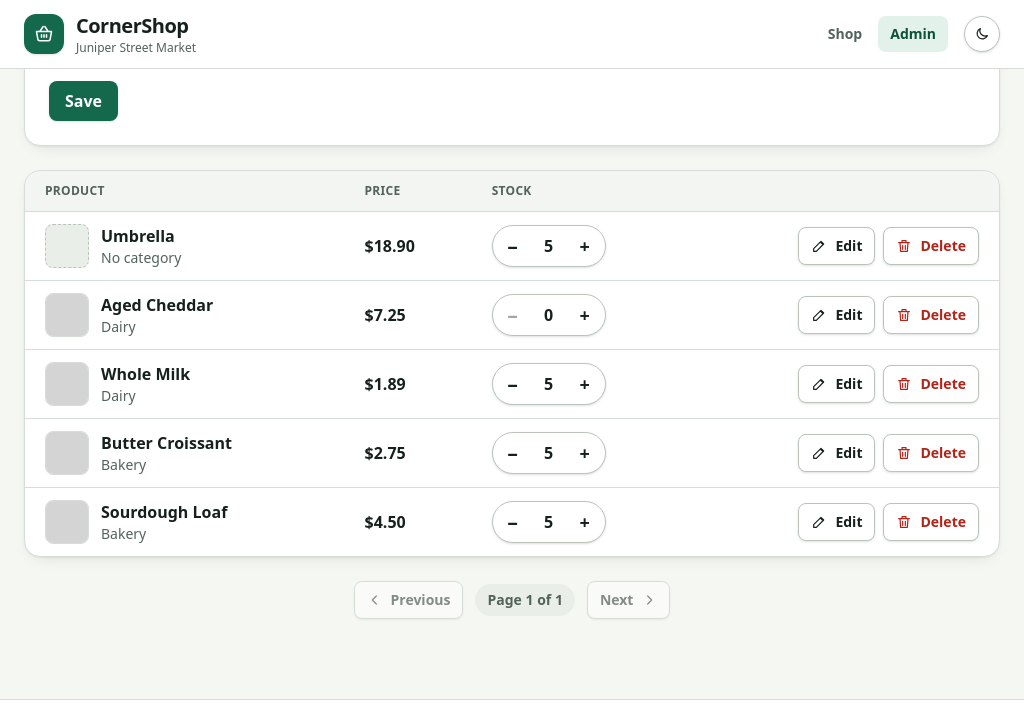
Test case: the owner panel › shows next to each field what the API refused
This screenshot has width=1024, height=725.
(page scrolled)
Click the button with aria-label "Edit Whole Milk" at (837, 384), box [798,365,876,403]
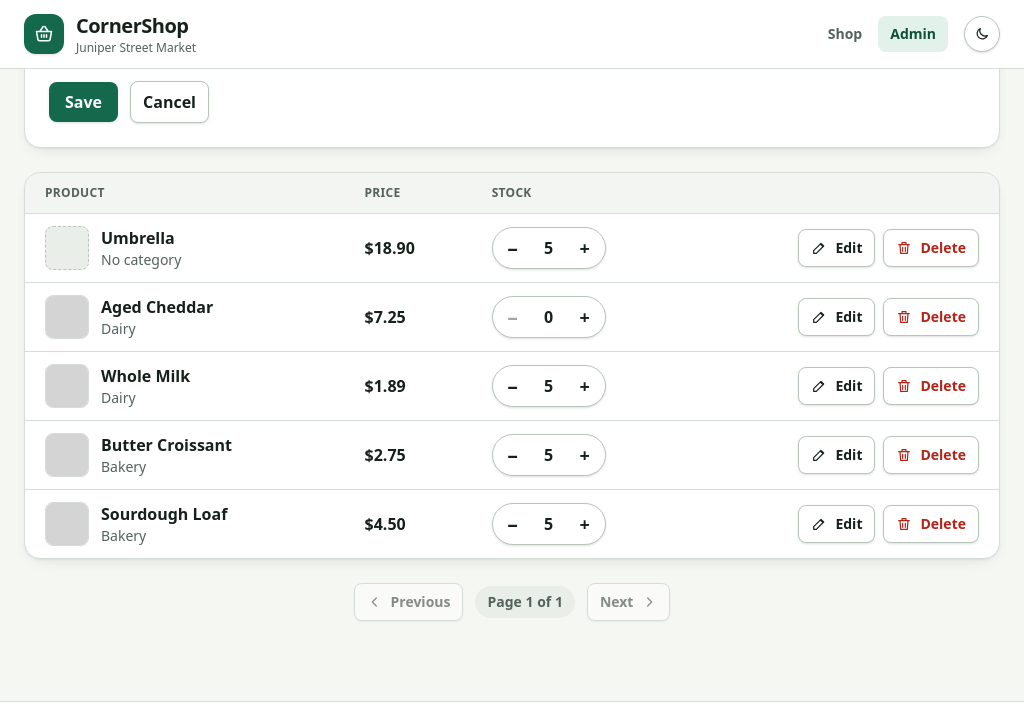
Click the button "Save" at (84, 102), box [49,82,118,122]
(page scrolled)
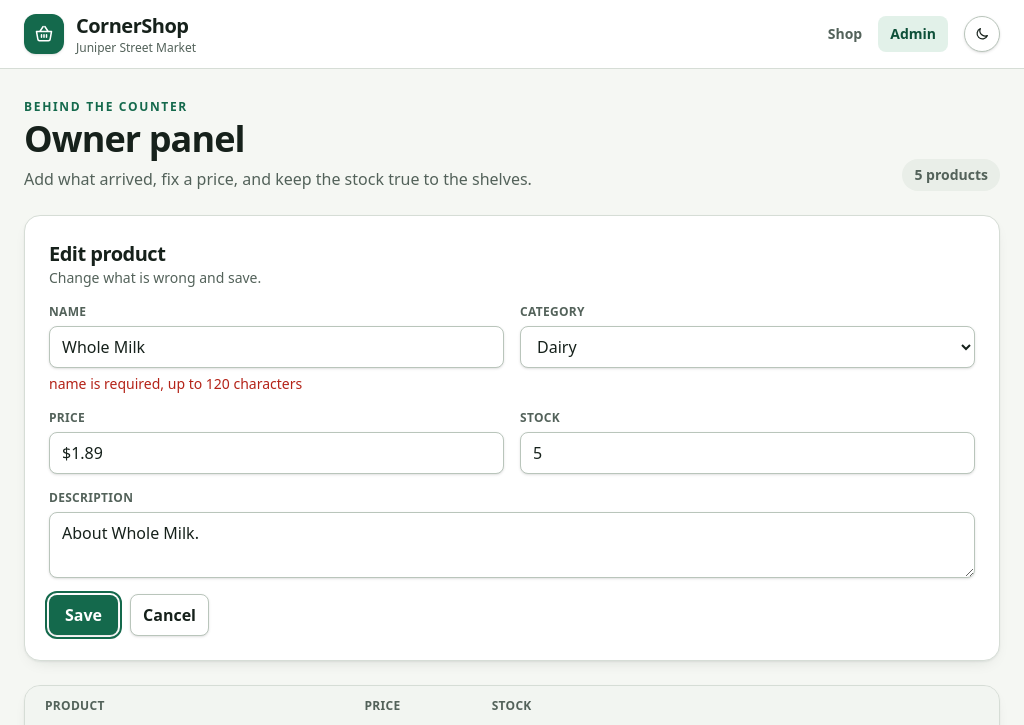
Now the text "name is required, up to 120 characters" is shown, box [49,374,302,393]
